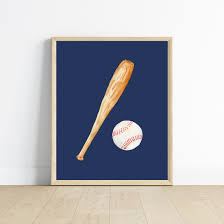baseball bat: (75, 58, 135, 161)
